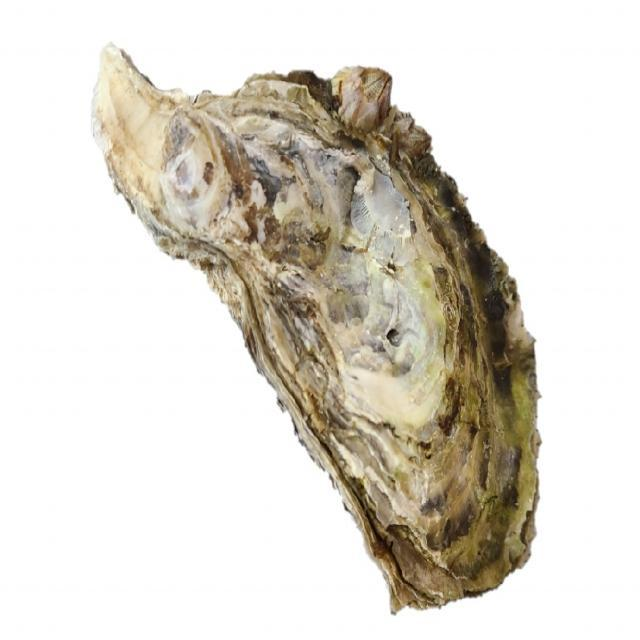Oyster- Indeterminate: (88, 37, 546, 620)
